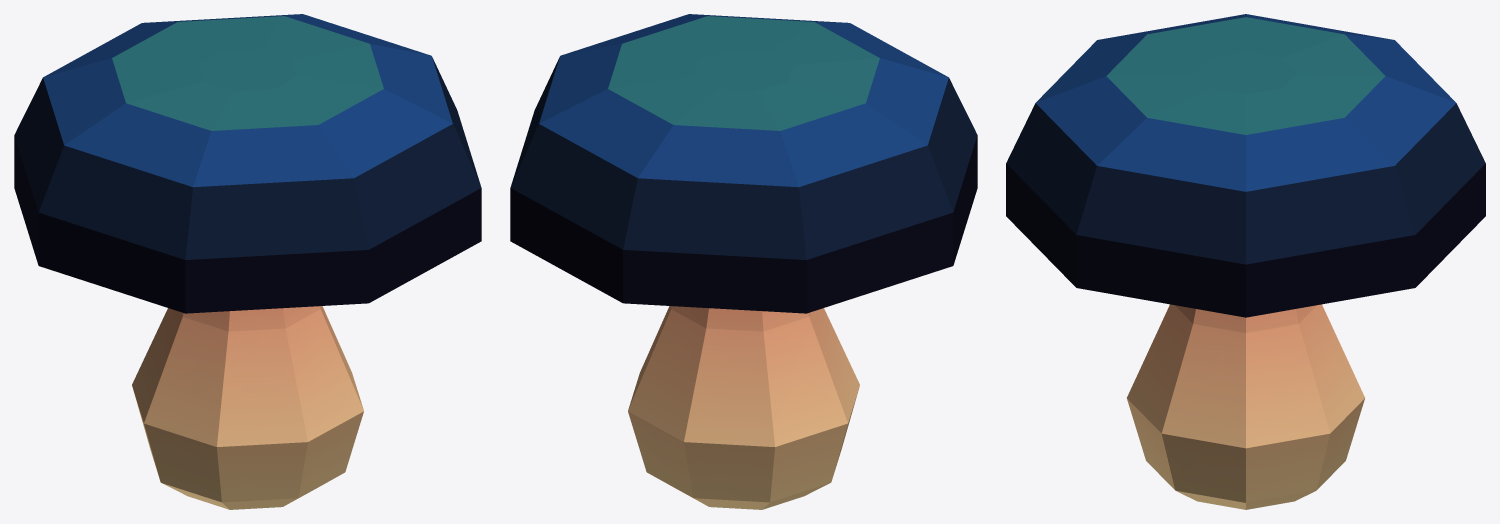
Rendered from Cavern_Mushroom_Big03.fbx.
3 renders of one model, left to right at view 1: azimuth 30°, elevation 25°; view 2: azimuth 150°, elevation 25°; view 3: azimuth 270°, elevation 25°, orthographic.
Visible parts, largest first — view 1: Cylinder.209; view 2: Cylinder.209; view 3: Cylinder.209.
Part boxes in pixels (x1,y1,x2,y2): Cylinder.209: (14, 14, 481, 509); Cylinder.209: (510, 14, 977, 509); Cylinder.209: (1006, 14, 1485, 509).
Size of the model in its own units: 47.89 by 44.9 by 47.89.
